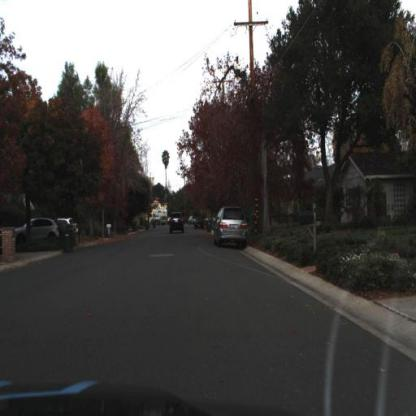car: (213, 208, 251, 249), (15, 219, 59, 253), (166, 210, 187, 236), (195, 218, 205, 231)
